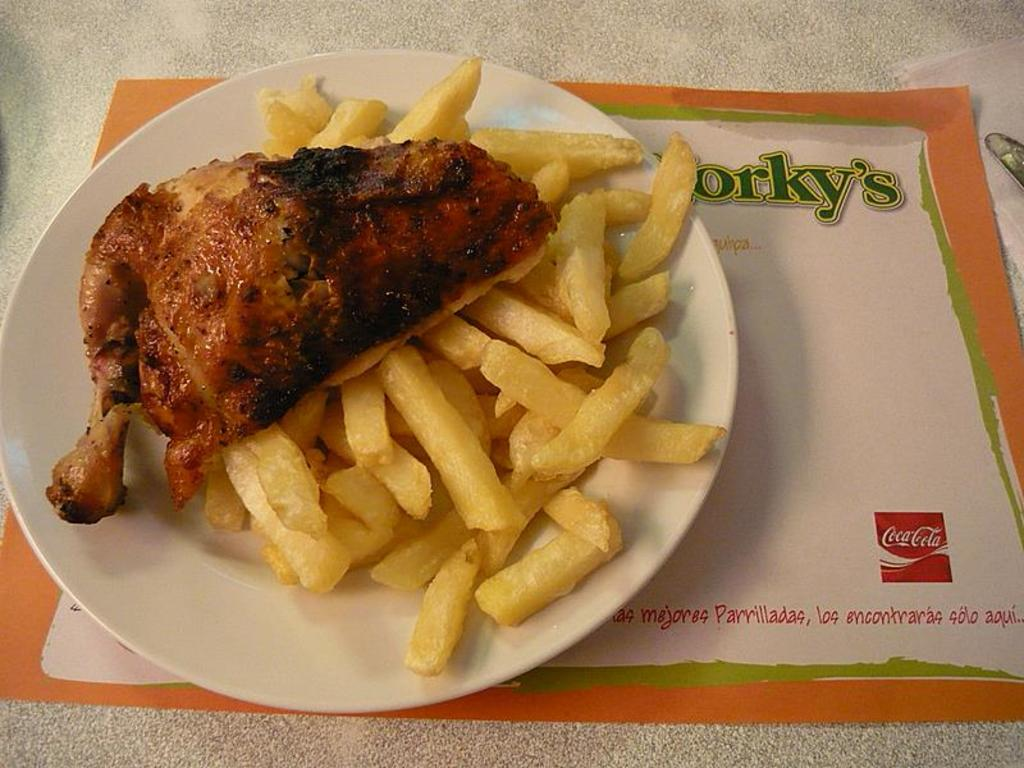French fries: (197, 44, 732, 695)
